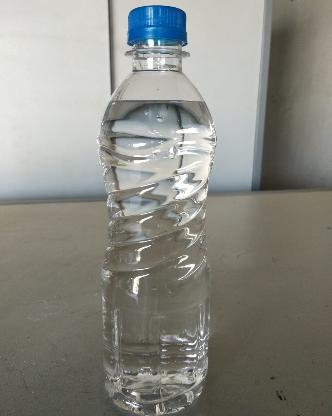Plastic Bottle: (96, 1, 217, 414)
